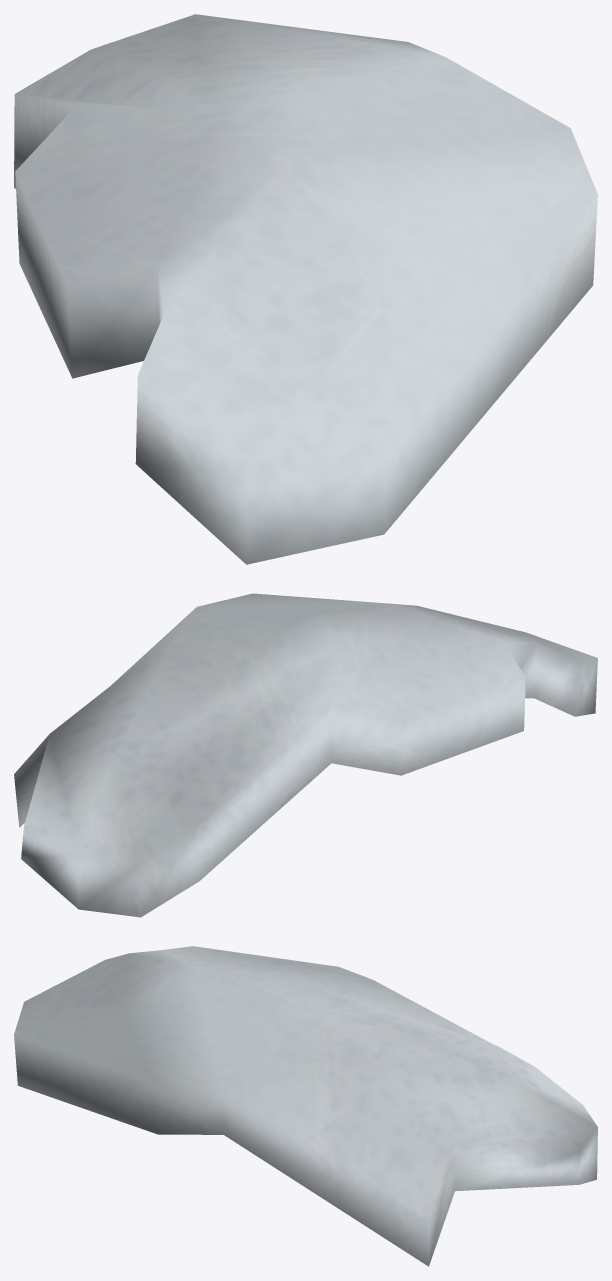
Rendered from Rock_2_Snow.fbx.
3 views of the same model, one above another, from view 1: azimuth 30°, elevation 25°; view 2: azimuth 150°, elevation 25°; view 3: azimuth 270°, elevation 25° (orthographic). The views are drawn at different scales.
Visible parts, largest first — view 1: Rock_2_Snow; view 2: Rock_2_Snow; view 3: Rock_2_Snow.
Part boxes in pixels (<box>): Rock_2_Snow: <box>14,14,597,564</box>; Rock_2_Snow: <box>14,593,597,917</box>; Rock_2_Snow: <box>14,946,597,1266</box>.
Size of the model in its own units: 202 by 96.24 by 275.
